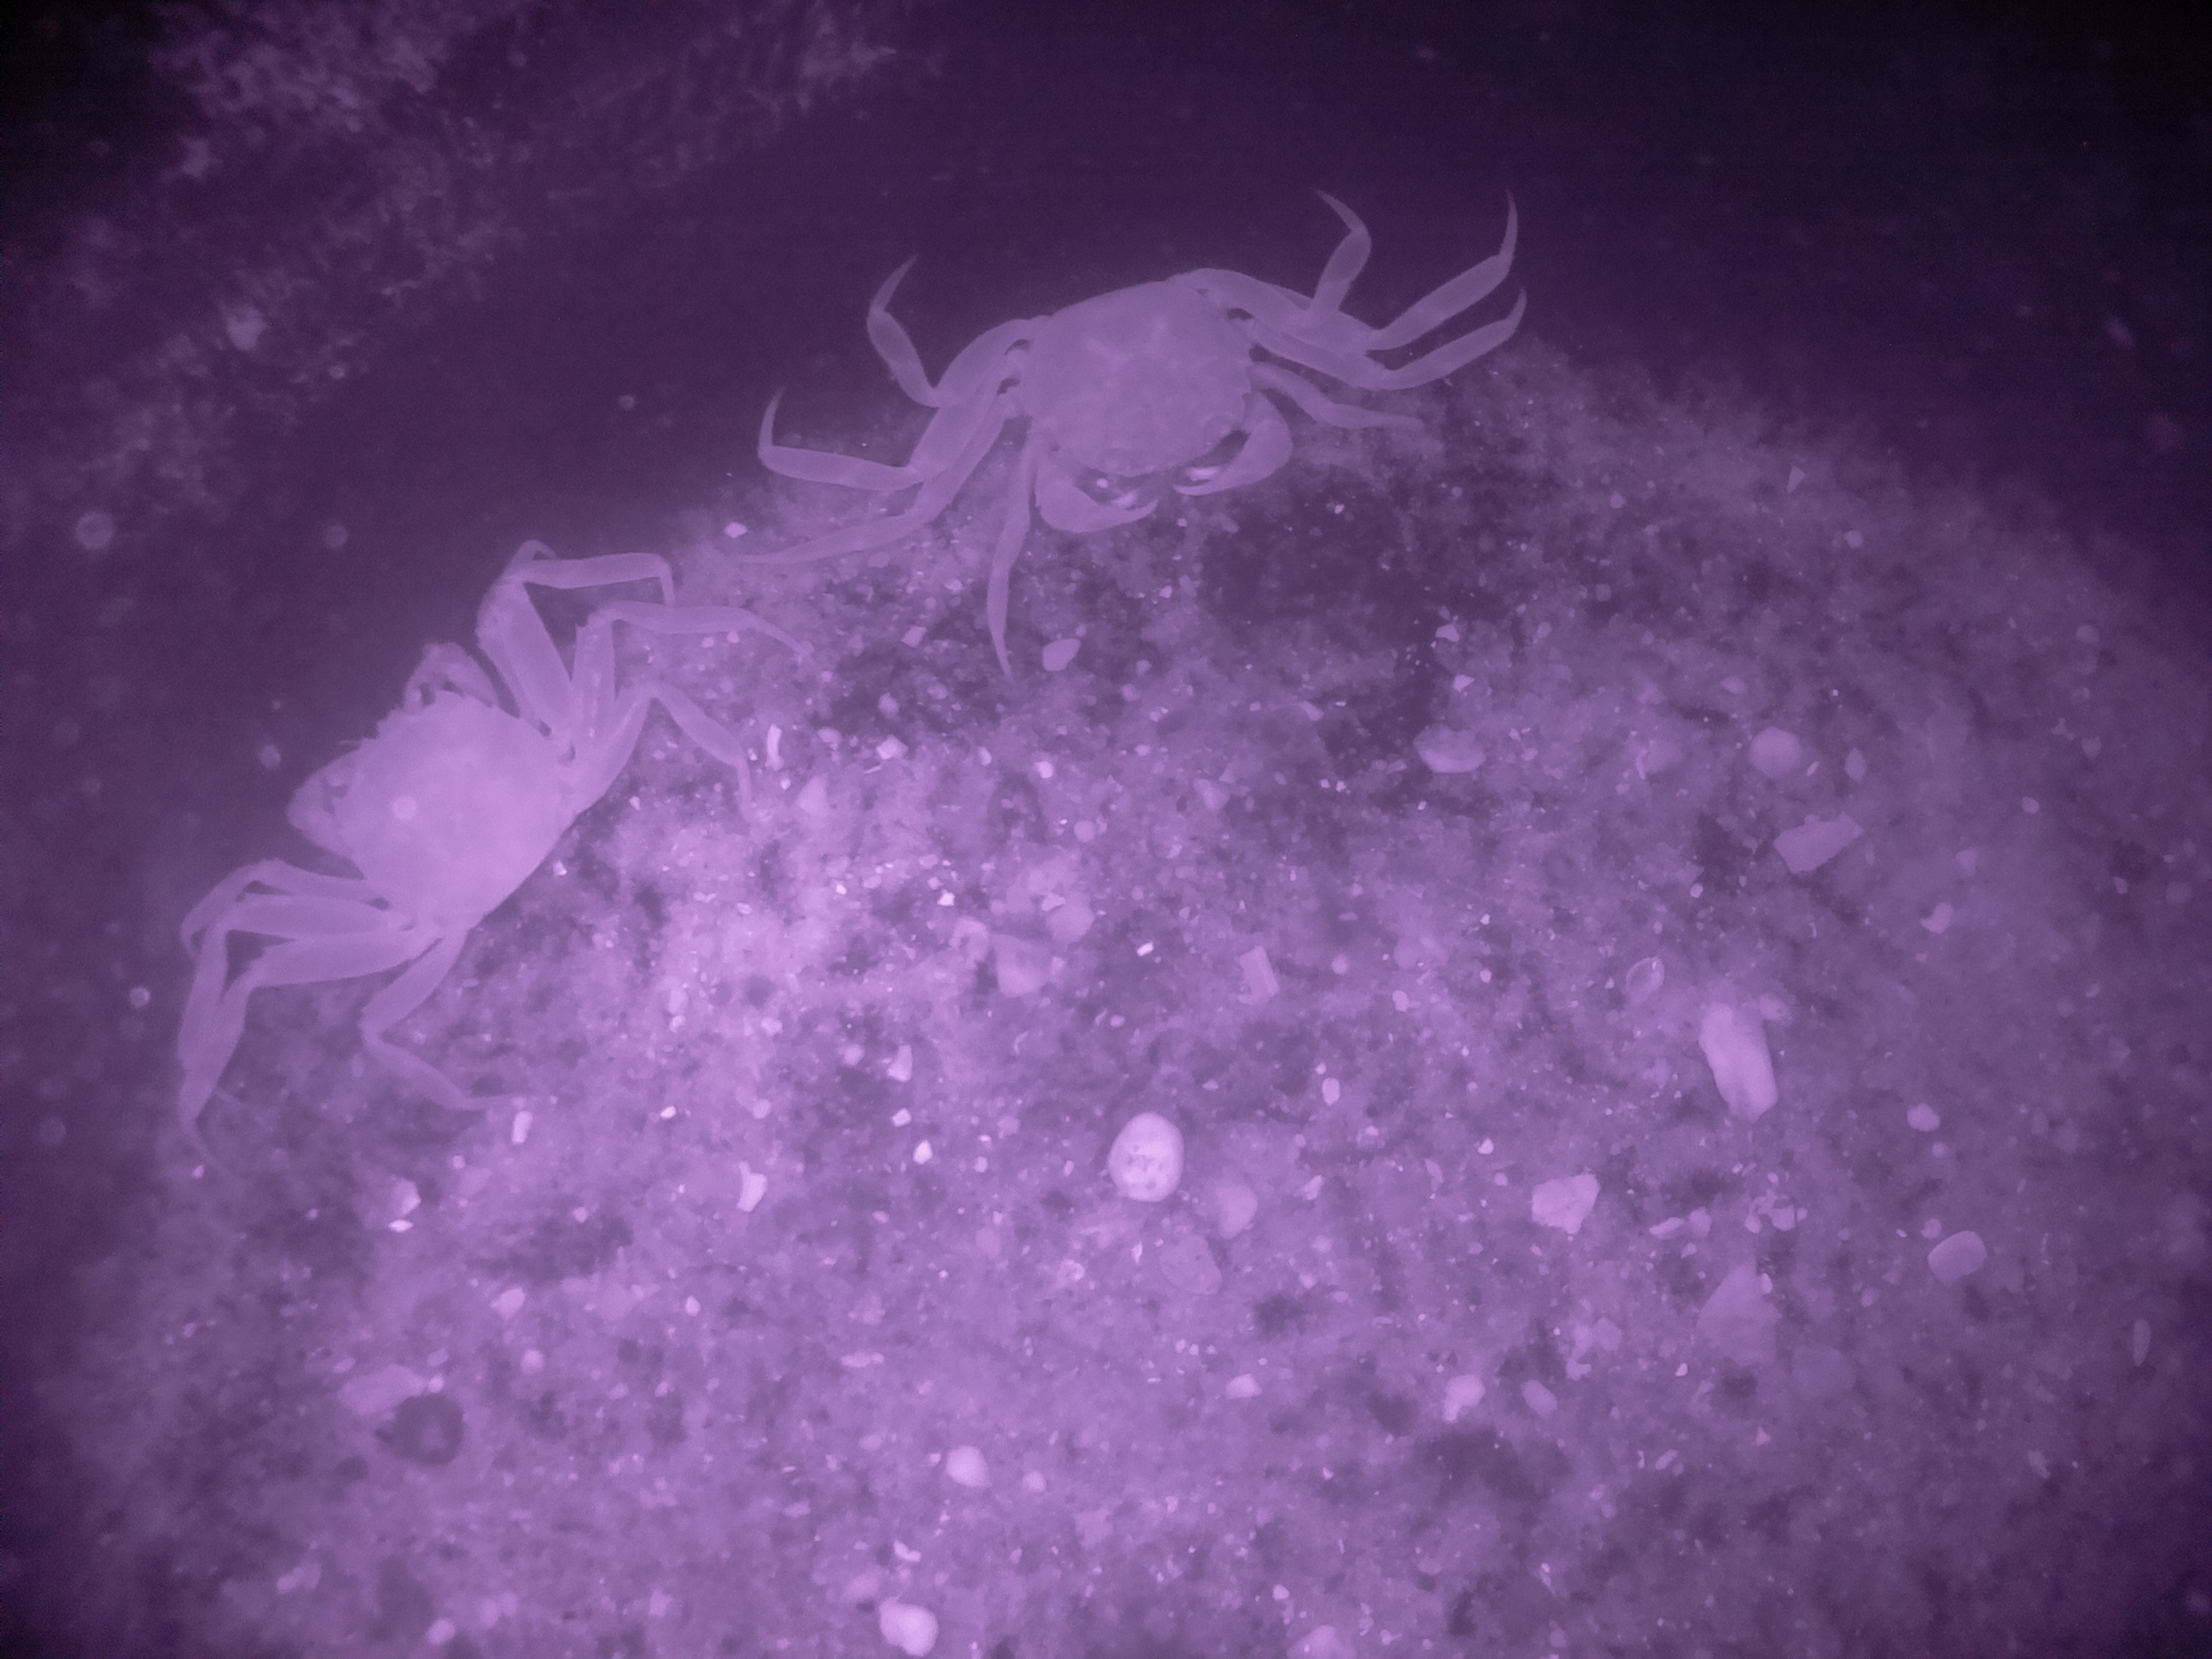Crab: (152, 525, 695, 1073), (806, 186, 1428, 603)
